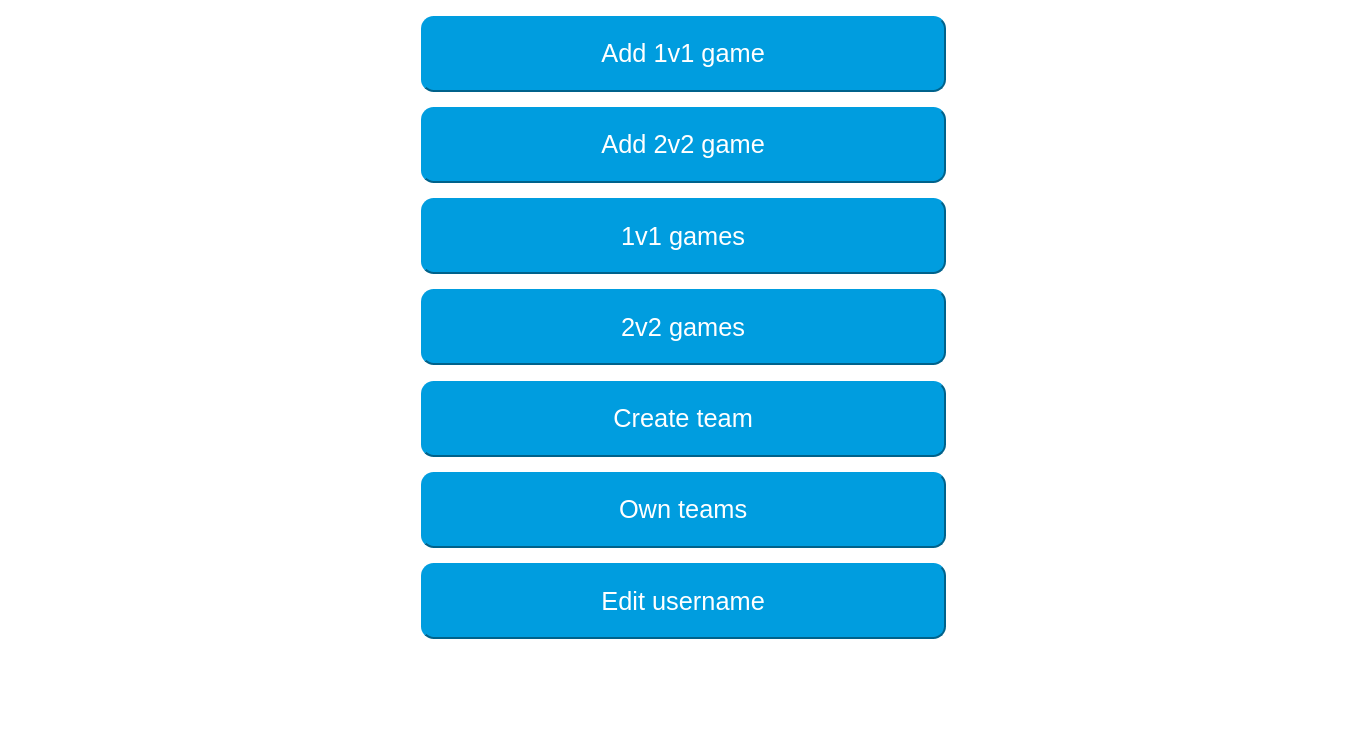
renders edit username page
(page scrolled)
Click the button "Edit username". click: (683, 601)
box: [420,563,946,639]
(page scrolled)
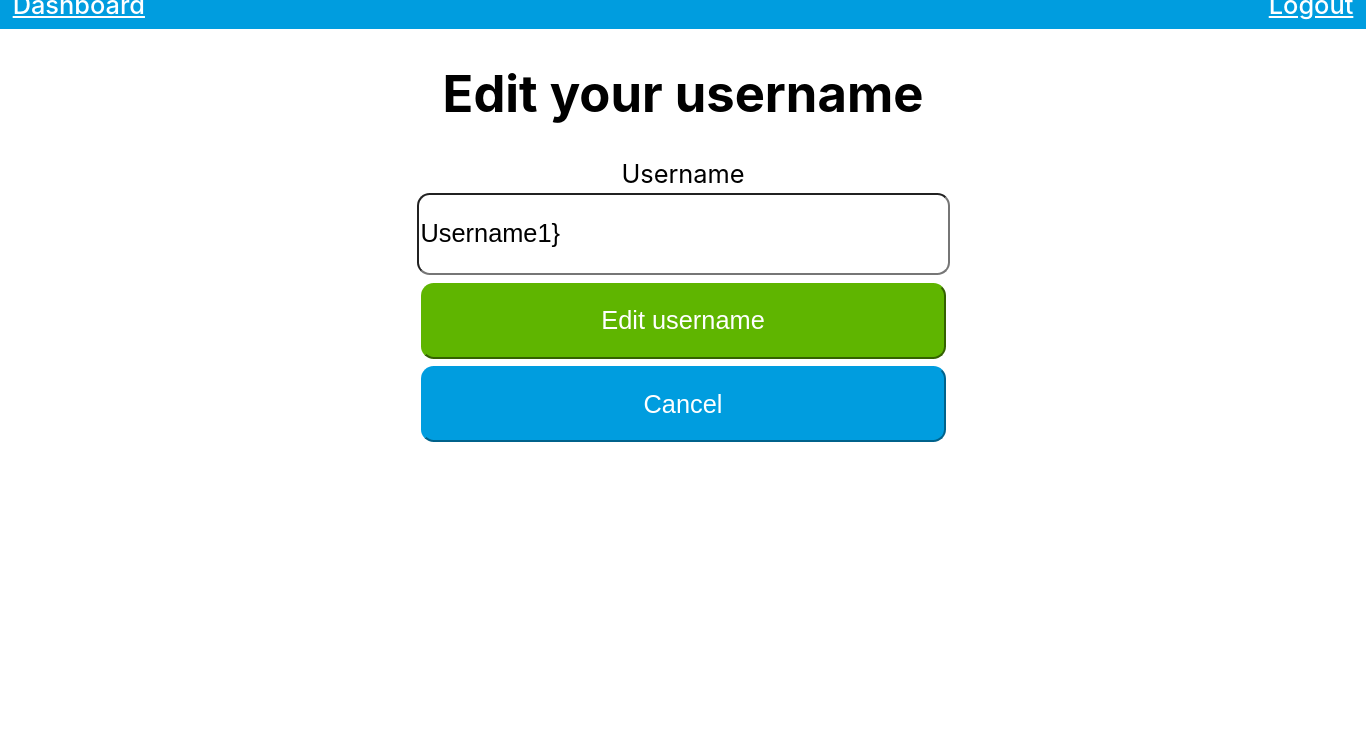
expect the heading "Edit your username" is shown: met, box [333,63,1033,124]
